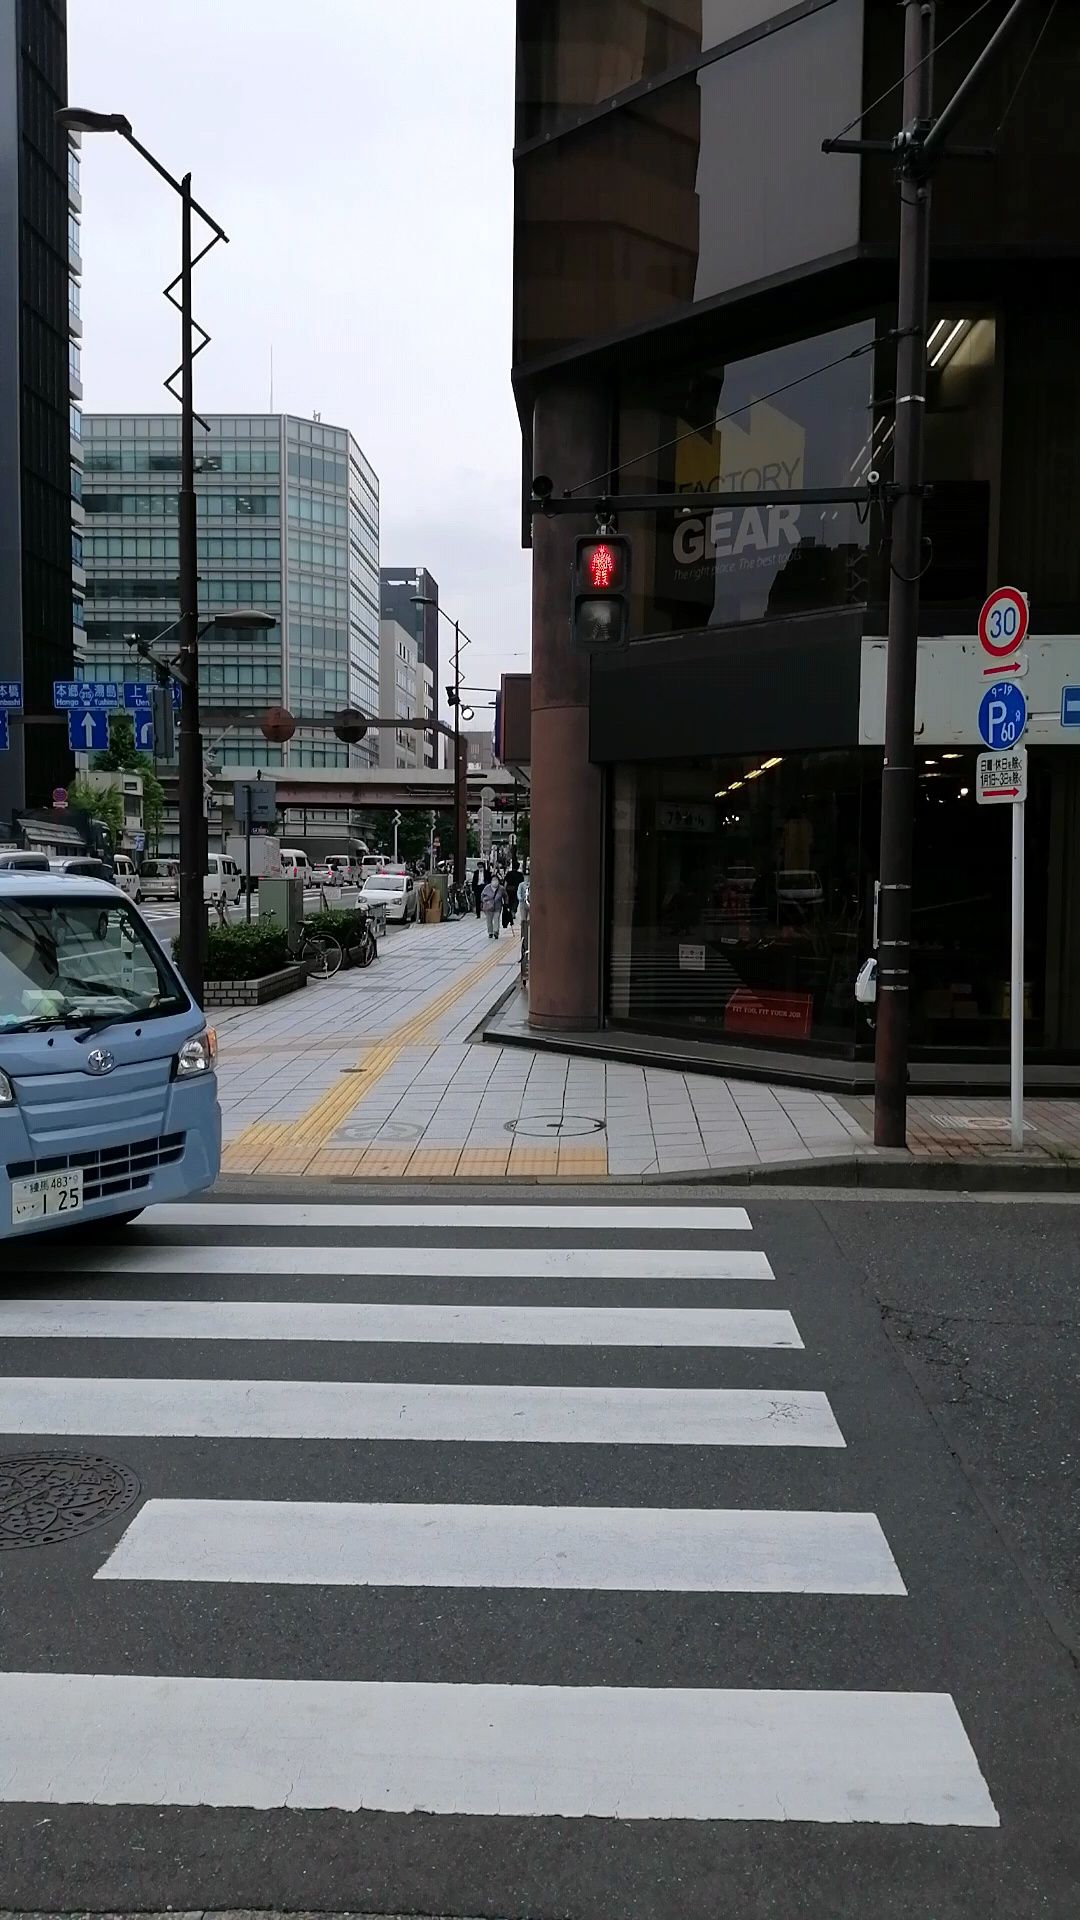red: (571, 534, 630, 646)
